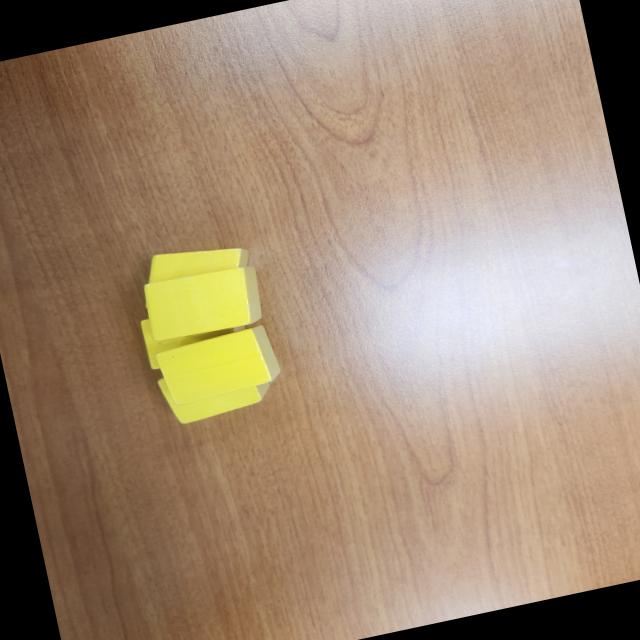yellow: (152, 321, 286, 408), (138, 260, 268, 346), (154, 354, 276, 430), (136, 298, 255, 371), (134, 234, 253, 288)
